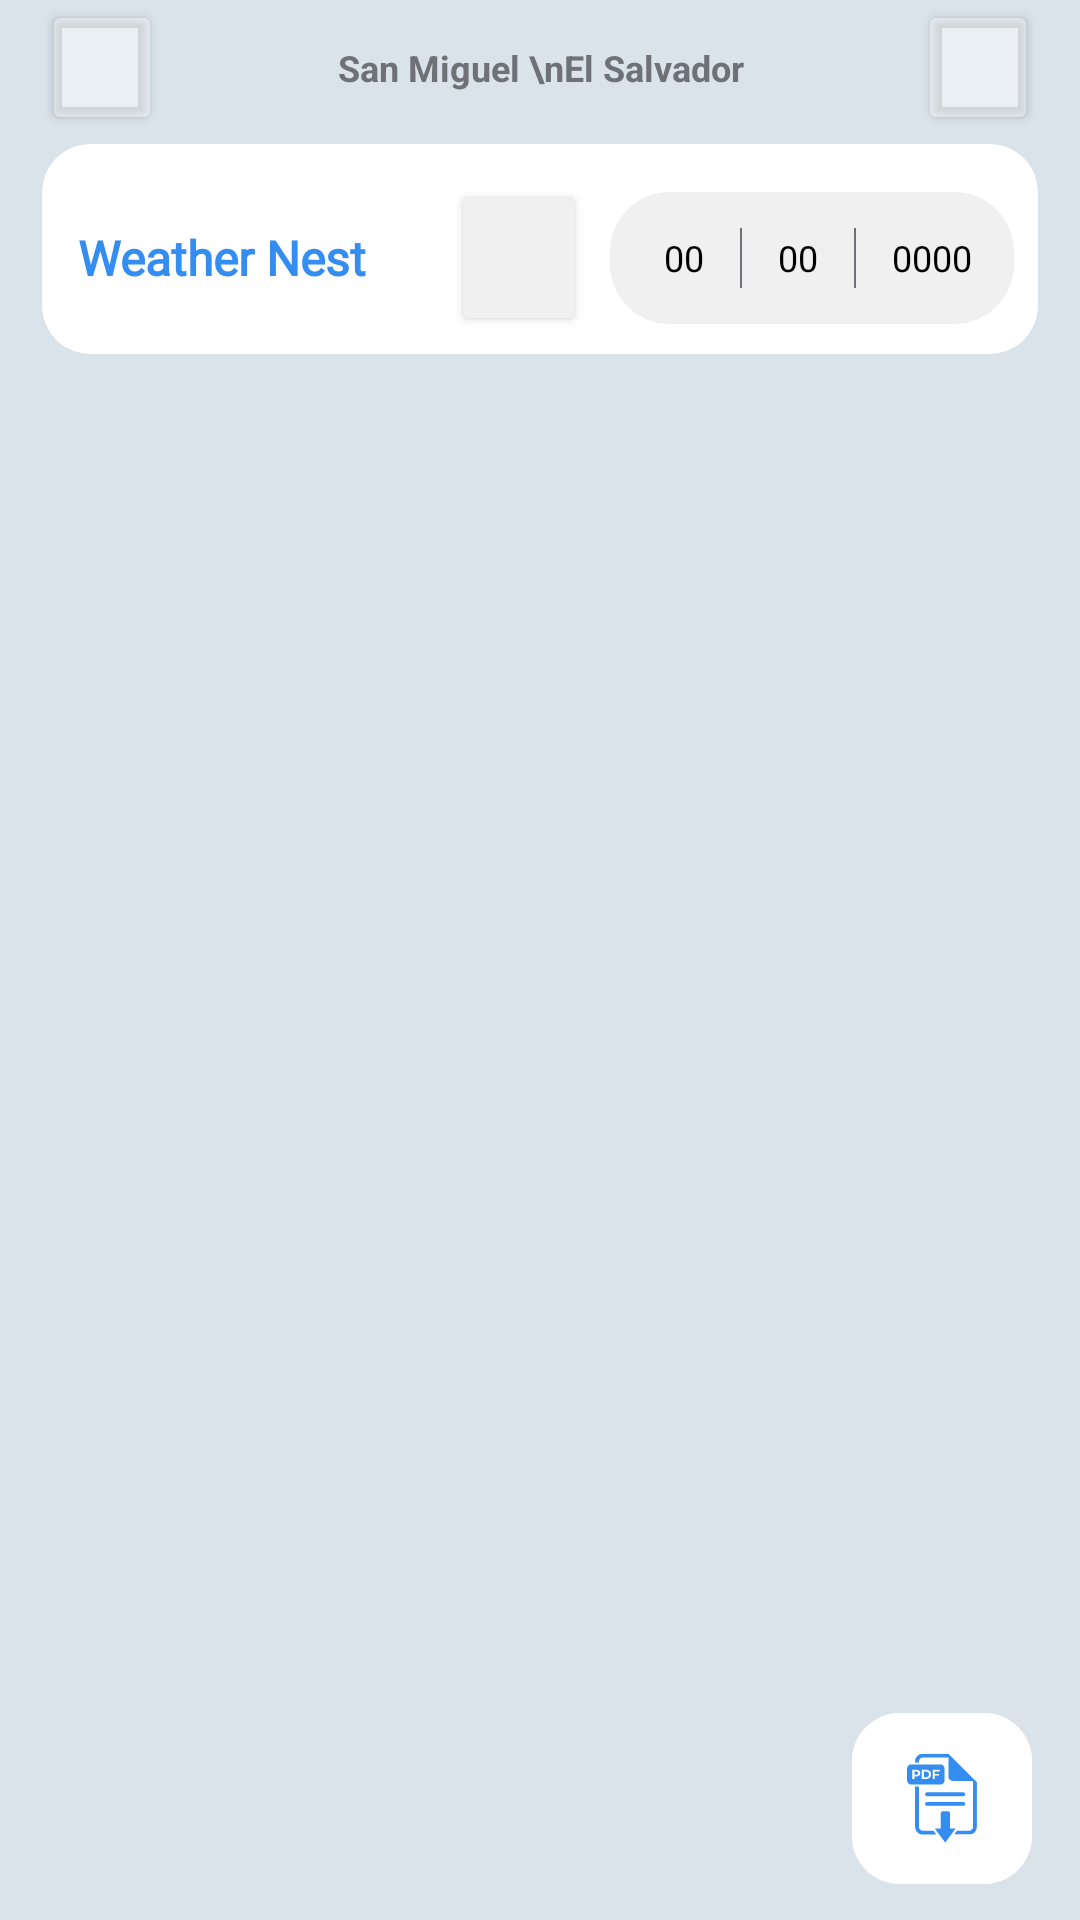

Screen size 1080 × 1920. Icon name, then its box in pixels as (x1, y1, x2, y2):
Exportar PDF: (852, 1713, 1032, 1884)
